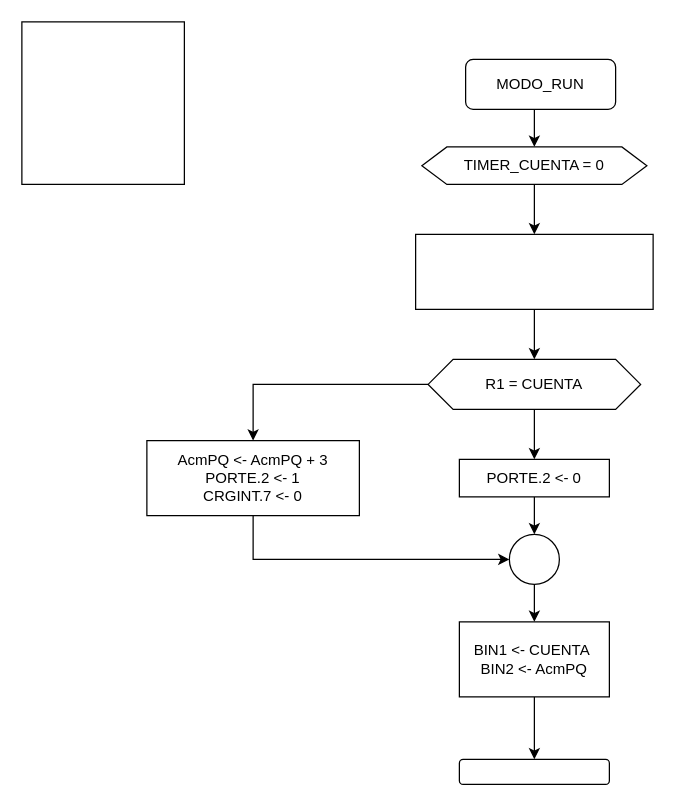
The diagram is 675 pixels wide and 806 high, and some of its shapes have lost their labels. The shapes that lost their labels are listed below. From the top down, each one's centre as x and y in pixels, then its label:
the point at 102,102: C - carry K. - Y J - X R1 - A R2 - B RR1 - D
the point at 533,271: TIMER_CUENTA <- VMAX CUENTA <- CUENTA + 1 R1 <- CantPQ
the point at 533,771: RETURN
